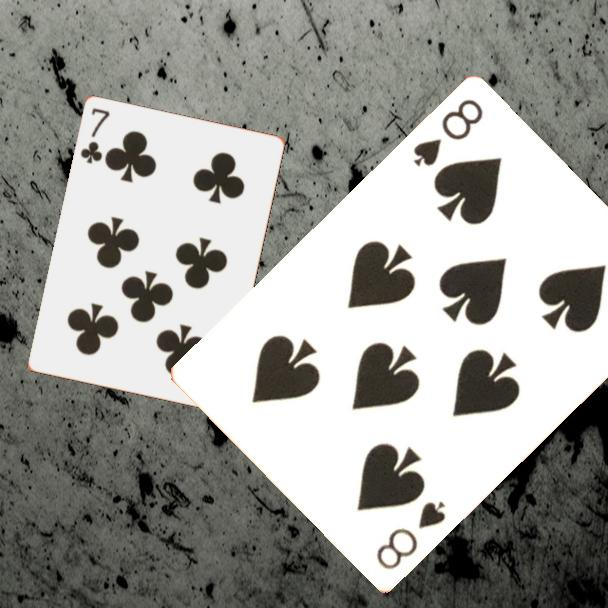c07: (77, 105, 113, 167)
s08: (409, 96, 487, 171), (372, 498, 449, 573)
